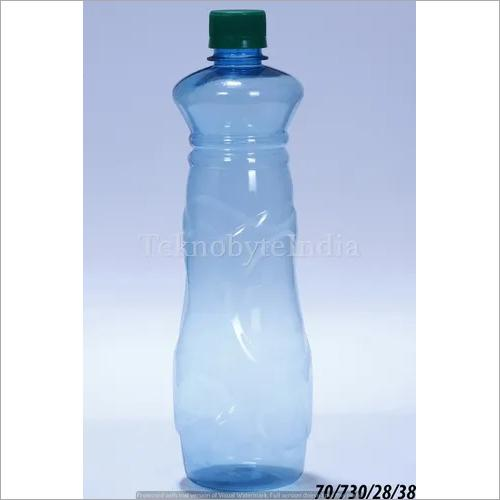bottle: (155, 0, 322, 491)
